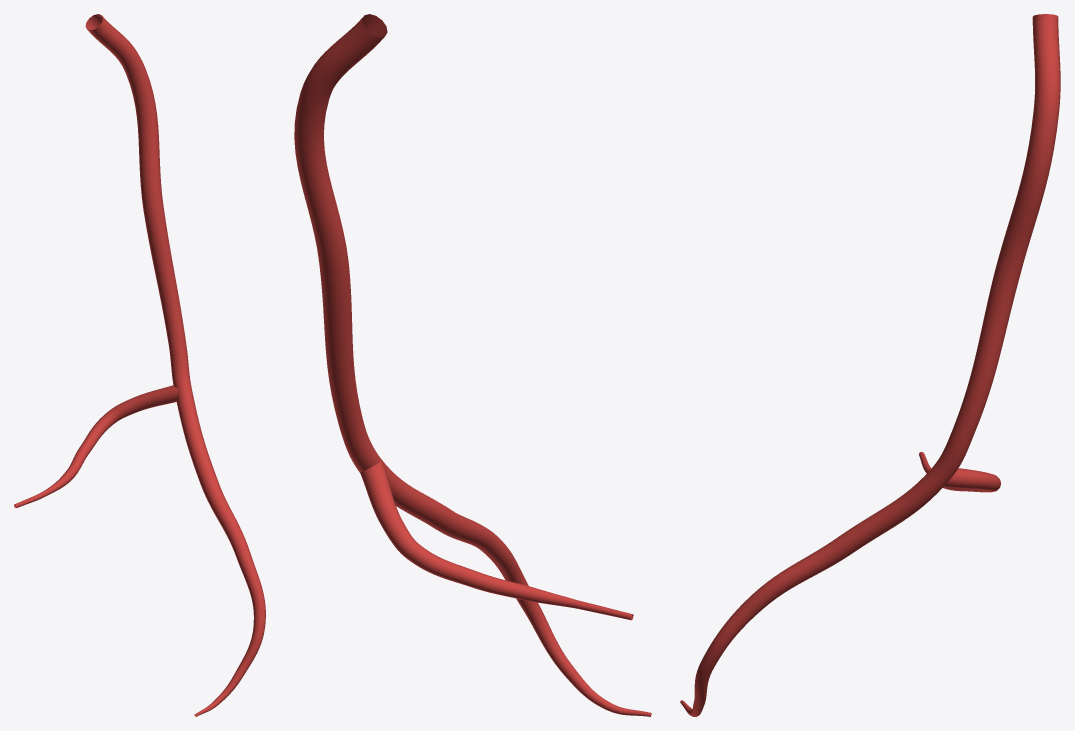
3 views of the same model, side by side, from view 1: azimuth 30°, elevation 25°; view 2: azimuth 150°, elevation 25°; view 3: azimuth 270°, elevation 25° (orthographic). The views are drawn at different scales.
Parts seen in each view (by area): view 1: 右侧大脑前动脉眶额支; view 2: 右侧大脑前动脉眶额支; view 3: 右侧大脑前动脉眶额支.
Part boxes in pixels (x1,y1,x2,y2): 右侧大脑前动脉眶额支: [14, 14, 265, 716]; 右侧大脑前动脉眶额支: [294, 14, 651, 716]; 右侧大脑前动脉眶额支: [680, 14, 1060, 716].
Size of the model in its own units: 0.0216 by 0.0643 by 0.0307.
